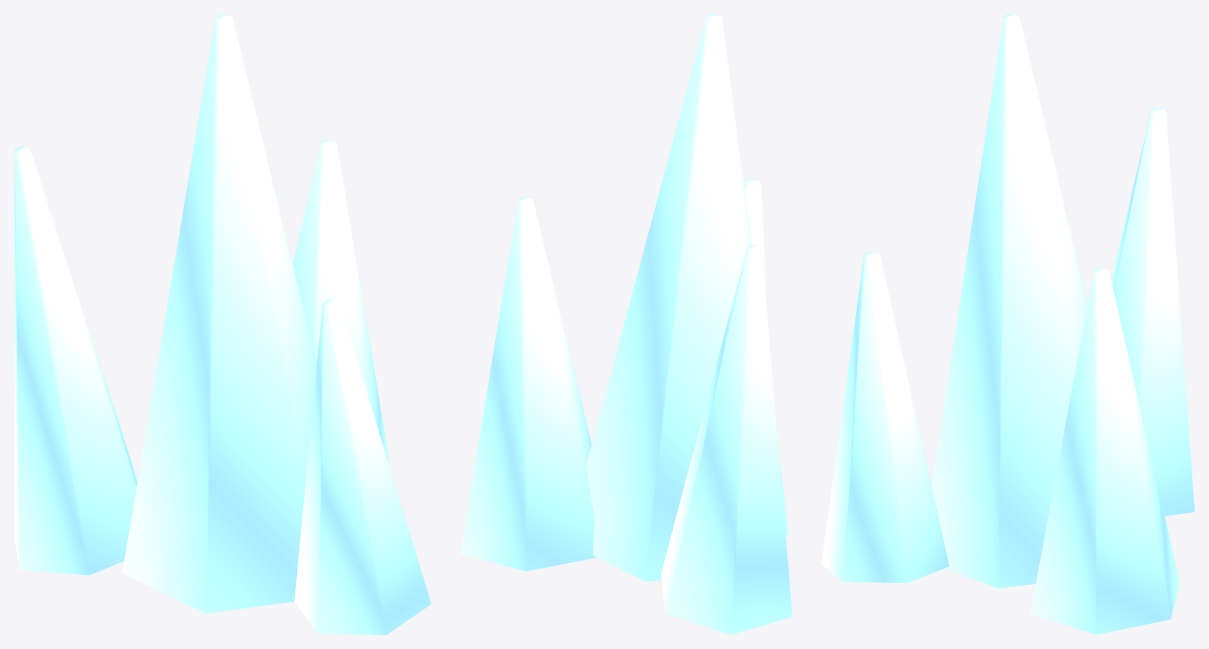
Rendered from crystal.glb.
3 views of the same model, side by side, from view 1: azimuth 30°, elevation 25°; view 2: azimuth 150°, elevation 25°; view 3: azimuth 270°, elevation 25° (orthographic). The views are drawn at different scales.
Parts seen in each view (by area): view 1: Crystal; view 2: Crystal; view 3: Crystal.
Boxes of the visible parts, box(x1,y1,x2,y2) form: Crystal: box(14, 14, 431, 634); Crystal: box(460, 14, 792, 634); Crystal: box(821, 14, 1194, 634).
Size of the model in its own units: 0.9495 by 1.42 by 0.9154.
